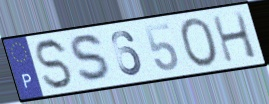5: (142, 21, 181, 73)
6: (110, 29, 145, 78)
H: (210, 10, 259, 65)
O: (178, 16, 221, 69)
S: (69, 32, 116, 85), (35, 37, 75, 91)
